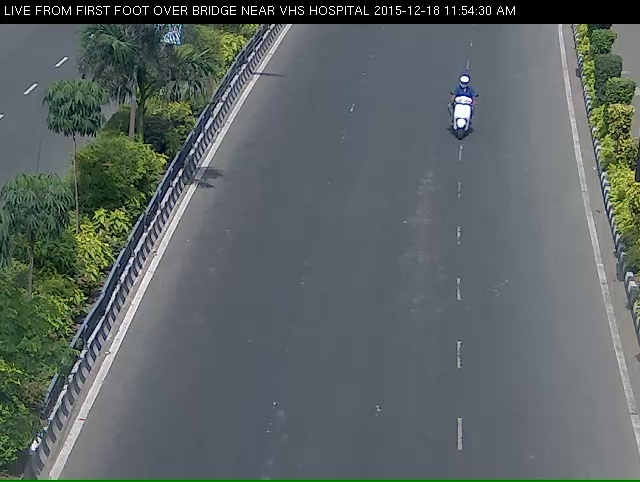Person: (442, 81, 482, 155)
